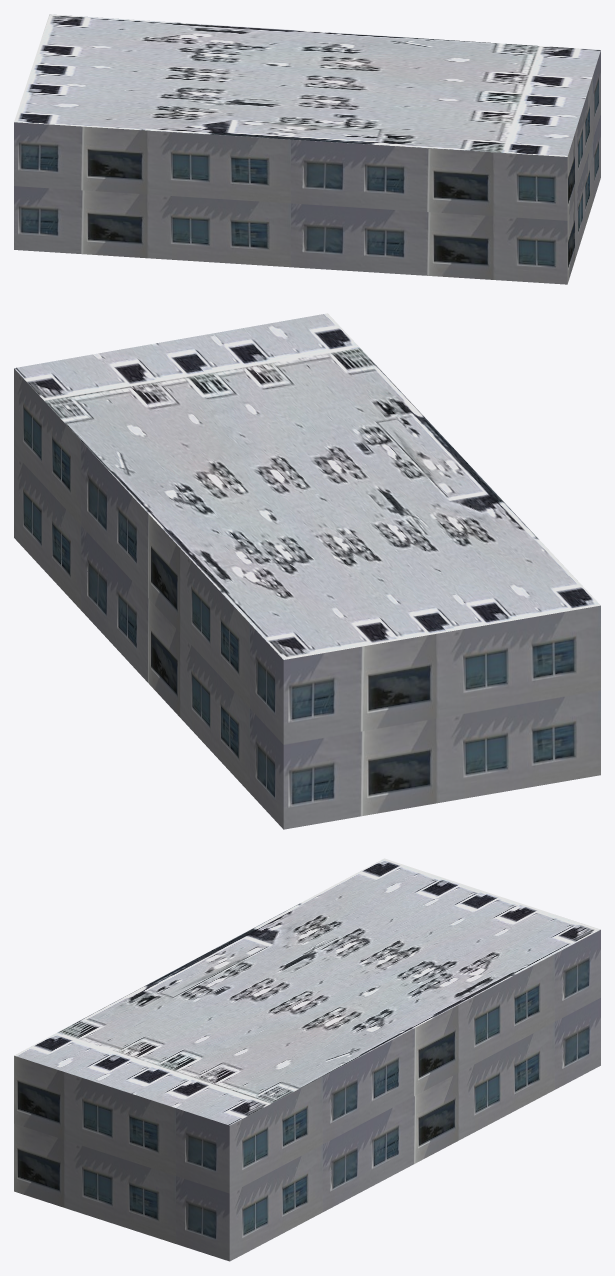
File: ResTex__540.fbx
The picture shows the model from 3 angles, top to bottom: view 1: azimuth 30°, elevation 25°; view 2: azimuth 150°, elevation 25°; view 3: azimuth 270°, elevation 25°; orthographic projection. The views are drawn at different scales.
Visible parts, largest first — view 1: CityEngineMaterial_10_m, CityEngineMaterial_m; view 2: CityEngineMaterial_m, CityEngineMaterial_10_m; view 3: CityEngineMaterial_10_m, CityEngineMaterial_m.
Part boxes in pixels (bbox=[...]): CityEngineMaterial_10_m: bbox=[14, 50, 600, 284]; CityEngineMaterial_m: bbox=[14, 14, 600, 156]; CityEngineMaterial_m: bbox=[14, 313, 600, 659]; CityEngineMaterial_10_m: bbox=[14, 368, 600, 829]; CityEngineMaterial_10_m: bbox=[14, 930, 600, 1261]; CityEngineMaterial_m: bbox=[14, 858, 600, 1125].
Size of the model in its own units: 25.3 by 6 by 23.49.
2 materials, 2 textured.
